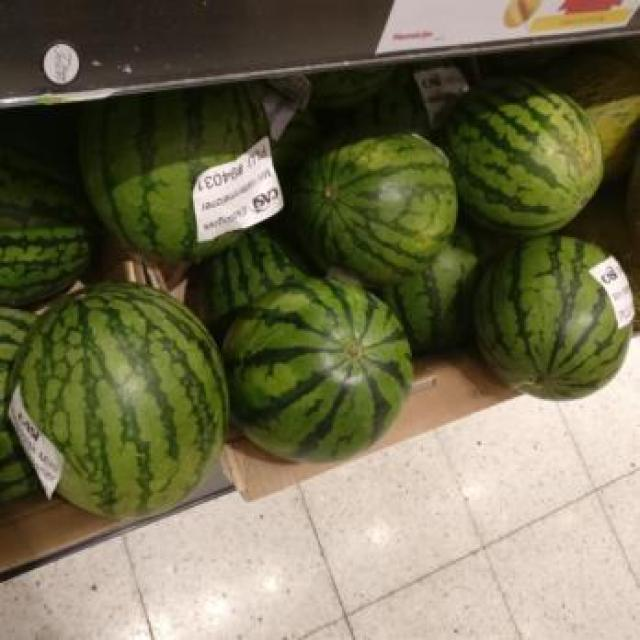Watermelon: (5, 290, 232, 520), (232, 280, 423, 472), (460, 232, 631, 399), (443, 65, 616, 226), (300, 120, 467, 285)
